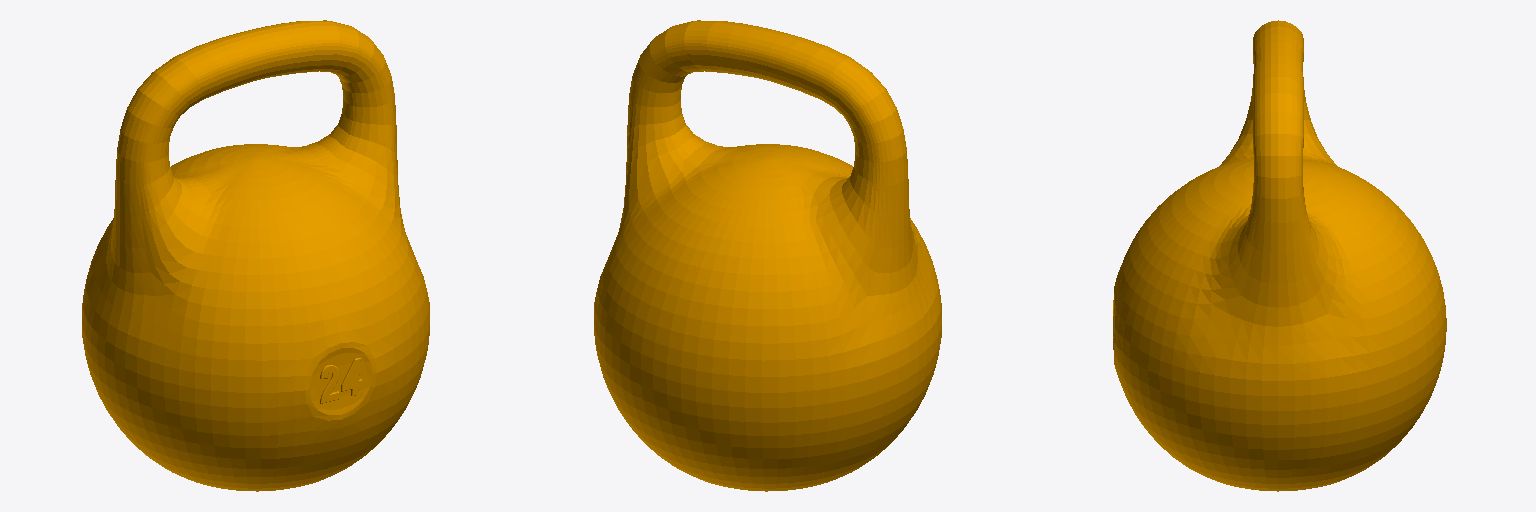
The robot description file, URDF, robot "mesh_object":
<?xml version="1.0" ?>
<robot name="mesh_object">
  <link name="base">
    <visual>
      <geometry>
        <mesh filename="dumbbell_0.obj" scale="1 1 1"/>
      </geometry>
    </visual>
    <collision>
      <geometry>
        <mesh filename="dumbbell_0.obj" scale="1 1 1"/>
      </geometry>
    </collision>
    <inertial>
      <origin xyz="0.000523 0.012840 0.069554" rpy="0 0 0"/>
      <mass value="0.5"/>
      <inertia ixx="0.01" iyy="0.01" izz="0.01" ixy="0" ixz="0" iyz="0"/>
    </inertial>
  </link>
</robot>

--- Facts derived from the render (not from the file) ---
3 views of the same robot in one strip: view 1: azimuth 30°, elevation 25°; view 2: azimuth 150°, elevation 25°; view 3: azimuth 270°, elevation 25° (orthographic).
Model mesh_object with 1 links and 0 joints (none), rooted at base, posed every joint at zero.
Visible links, largest first — view 1: base; view 2: base; view 3: base.
Boxes of the visible links, x1,y1,x2,y2 form: base: (82, 20, 429, 491); base: (594, 20, 941, 491); base: (1113, 20, 1446, 491).
Bounding box of the posed robot: 0.1023 × 0.1013 × 0.1391 m (x, y, z).
Meshes: 1 distinct files referenced, 1 mesh visuals loaded (1 OBJ).
